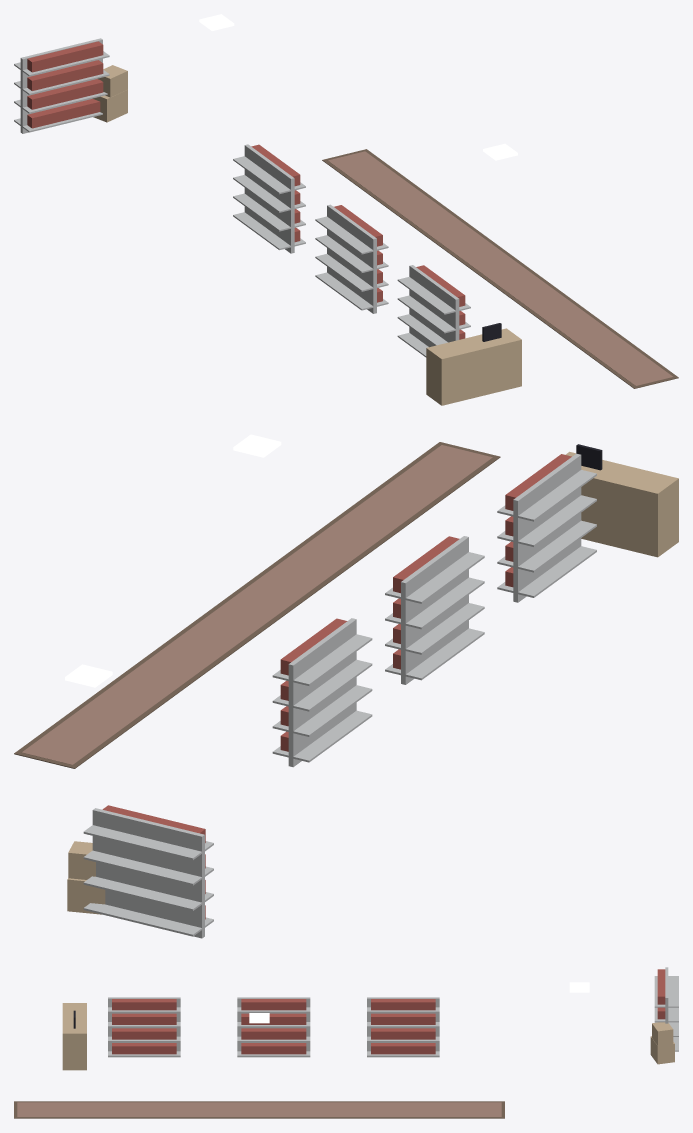
The model's file is fine-s0.glb.
The picture shows the model from 3 angles, top to bottom: view 1: azimuth 30°, elevation 25°; view 2: azimuth 150°, elevation 25°; view 3: azimuth 270°, elevation 25°; orthographic projection. The views are drawn at different scales.
Parts seen in each view (by area): view 1: soft-s0, shelving.000, shop-counter.000, shelf.000, shelf.001, shelf.002, cardboard-box.000; view 2: soft-s0, shelving.000, shelf.000, shelf.002, shelf.001, shop-counter.000, cardboard-box.000; view 3: soft-s0, shelf.000, shelf.002, shelf.001, shop-counter.000, shelving.000, cardboard-box.000.
Boxes of the visible parts, box(x1,y1,x2,y2) form: soft-s0: box(322, 149, 678, 388); shelving.000: box(14, 38, 109, 133); shop-counter.000: box(426, 323, 521, 405); shelf.000: box(233, 144, 305, 253); shelf.001: box(315, 204, 388, 313); shelf.002: box(397, 265, 470, 357); cardboard-box.000: box(92, 65, 127, 122); soft-s0: box(14, 442, 500, 768); shelving.000: box(83, 805, 213, 938); shelf.000: box(272, 618, 372, 767); shelf.002: box(497, 453, 596, 602); shelf.001: box(385, 536, 484, 684); shop-counter.000: box(565, 444, 678, 557); cardboard-box.000: box(67, 841, 105, 914); soft-s0: box(14, 1101, 504, 1118); shelf.000: box(367, 997, 439, 1057); shelf.002: box(108, 997, 180, 1057); shelf.001: box(237, 997, 310, 1057); shop-counter.000: box(62, 1003, 86, 1070); shelving.000: box(654, 967, 678, 1051); cardboard-box.000: box(650, 1022, 674, 1064).
Size of the model in its own units: 5.43 by 2.53 by 16.43.
